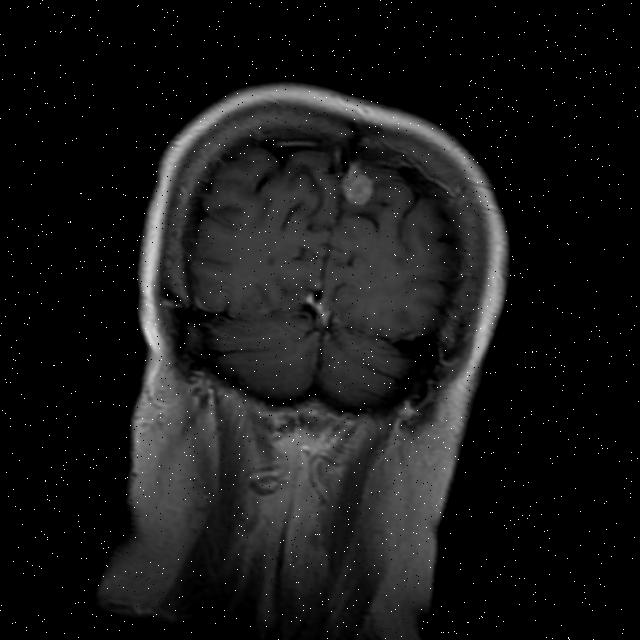Meningioma: (337, 159, 378, 210)
